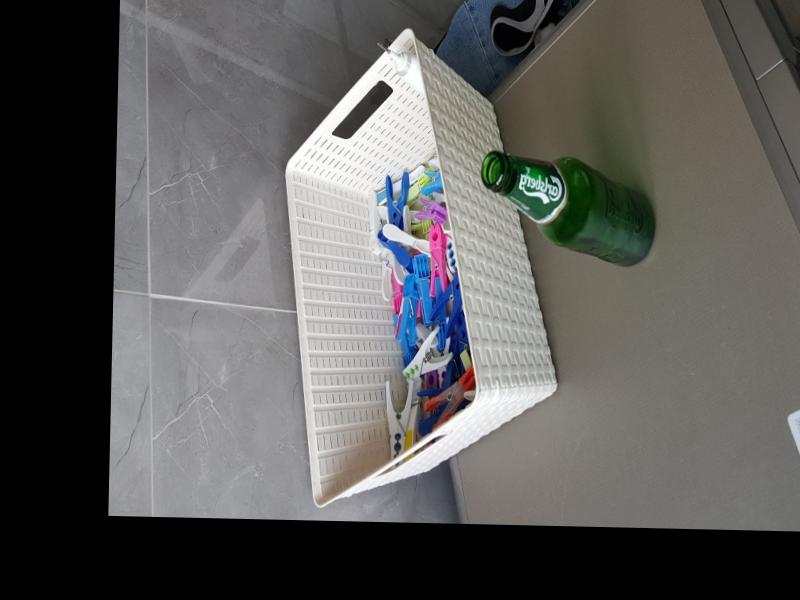Beer: (478, 151, 656, 267)
